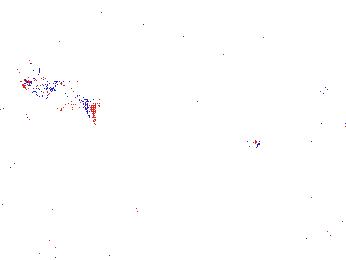red belly glassfish: (223, 133, 263, 152), (17, 65, 46, 85)
redtail glassfish: (22, 69, 108, 126)
